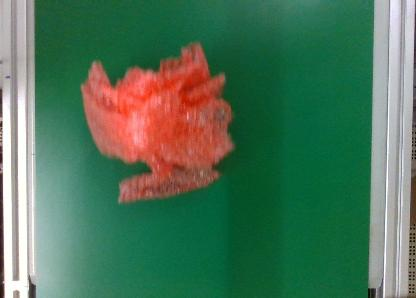Others: (77, 42, 237, 202)
